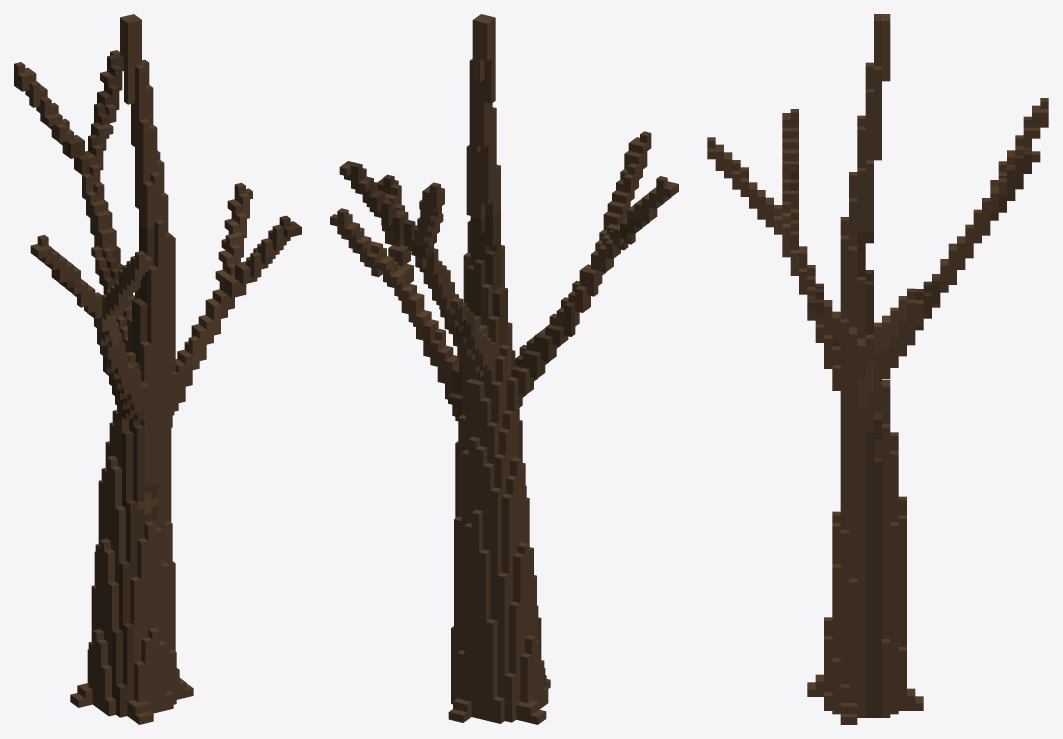
File: apple_sapling_winter.glb
3 views of the same model, side by side, from view 1: azimuth 30°, elevation 25°; view 2: azimuth 150°, elevation 25°; view 3: azimuth 270°, elevation 25° (orthographic). The views are drawn at different scales.
Parts seen in each view (by area): view 1: VoxelVisual; view 2: VoxelVisual; view 3: VoxelVisual.
Boxes of the visible parts, x1,y1,x2,y2 form: VoxelVisual: (14, 14, 301, 724); VoxelVisual: (330, 14, 678, 724); VoxelVisual: (707, 14, 1048, 724).
Size of what is drawn, in the model's own units: 2.44 by 5.69 by 2.56.
